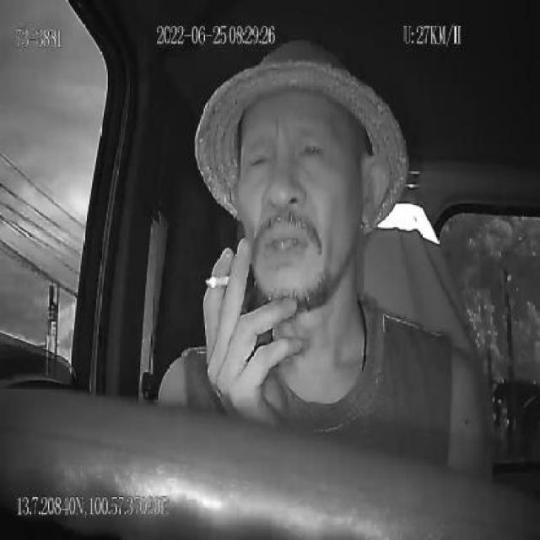smoking: (204, 273, 232, 291)
